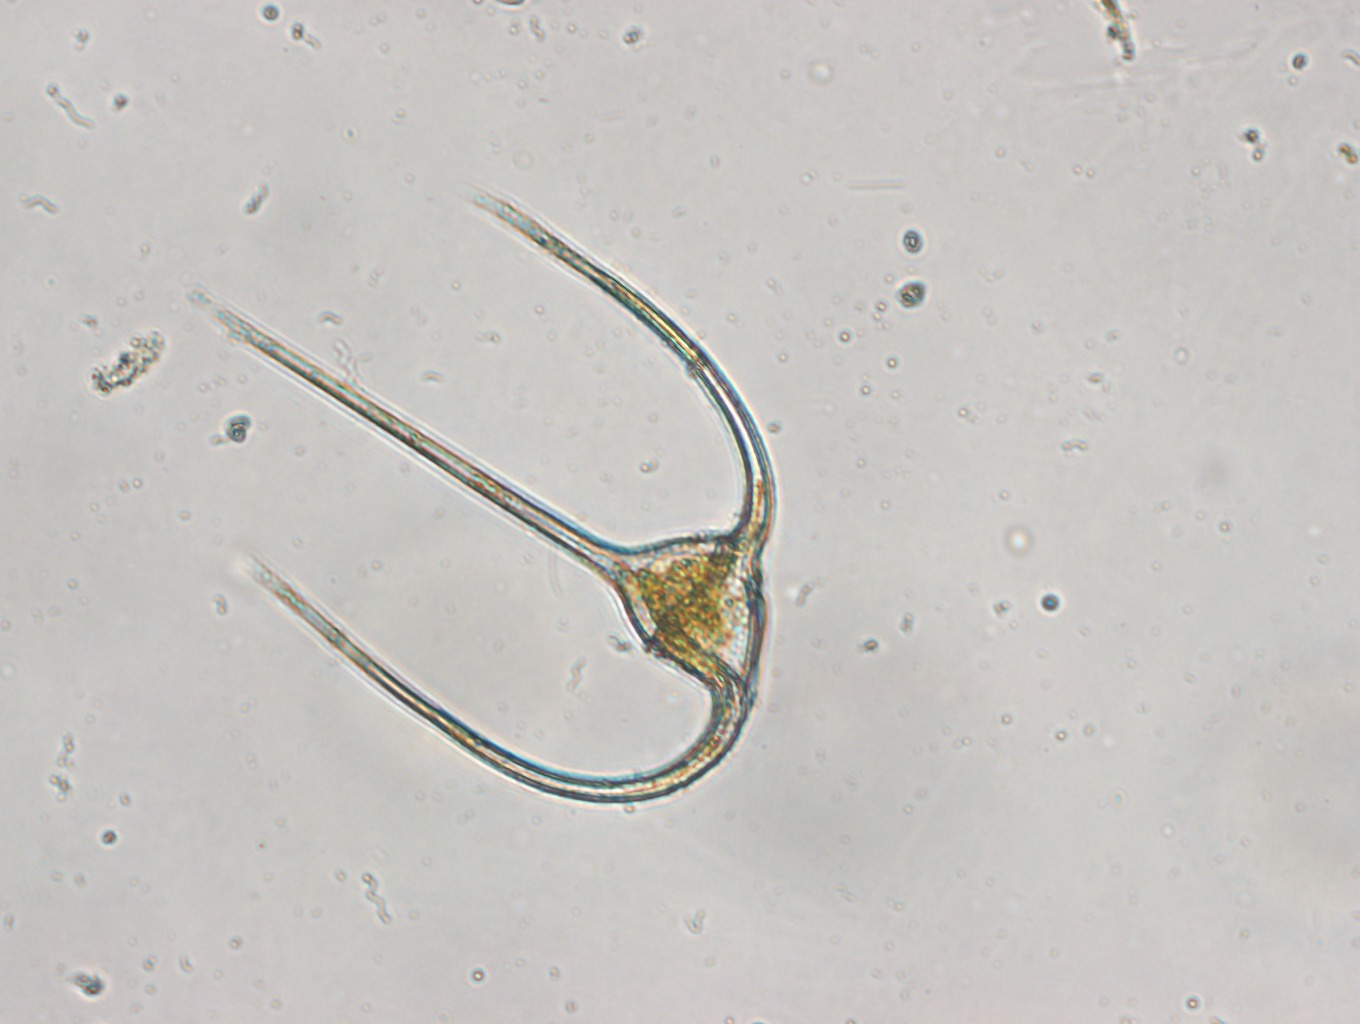ceratium trichoceros: (197, 162, 786, 817)
